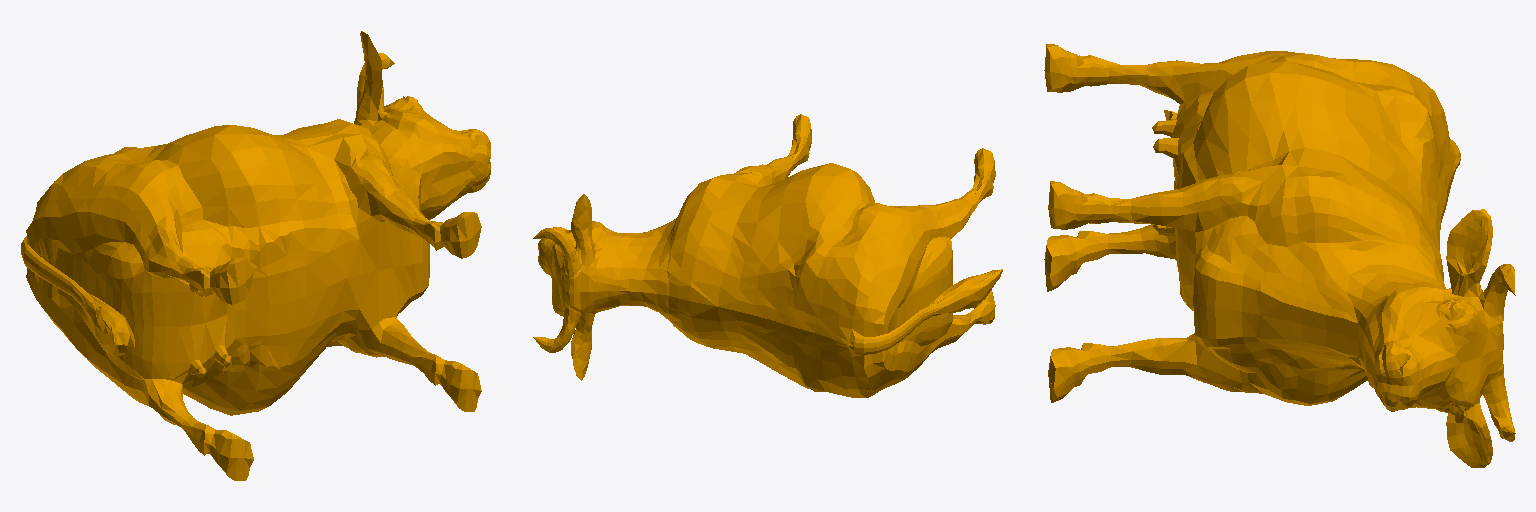
The robot description file, URDF, robot "cow":
<?xml version='1.0'?>

<robot name="cow">
    <static>false</static>
    <link name="link">
        <inertial>
            <mass value="0.06537537208939248"/>
            <inertia ixx="2.7178287203402235e-05" ixy="-6.238206893765478e-06" ixz="-9.57342870436954e-09"
                     iyy="5.563701623419451e-05" iyz="-1.87224277395199e-09" izz="5.9212062511110723e-05"/>
        </inertial>
        <collision name="collision">
            <geometry>
                <mesh filename="package://miscnet/train/cow/collision_model_vhacd.obj"/>
            </geometry>
        </collision>
        <visual name="visual">
            <geometry>
                <mesh filename="package://miscnet/train/cow/visual_model.obj"/>
            </geometry>
        </visual>
    </link>
</robot>

--- Render facts (derived) ---
3 views of the same robot in one strip: view 1: azimuth 30°, elevation 25°; view 2: azimuth 150°, elevation 25°; view 3: azimuth 270°, elevation 25° (orthographic).
Robot: cow — 1 links, 0 joints (none); root link link; default pose: every joint at zero.
Links seen in each view (by area): view 1: link; view 2: link; view 3: link.
Boxes of the visible links, x1,y1,x2,y2 form: link: (21,31,490,480); link: (533,114,1002,397); link: (1044,44,1515,467).
Bounding box of the posed robot: 0.1253 × 0.096 × 0.0681 m (x, y, z).
Meshes: 1 distinct files referenced, 1 mesh visuals loaded (1 OBJ).
